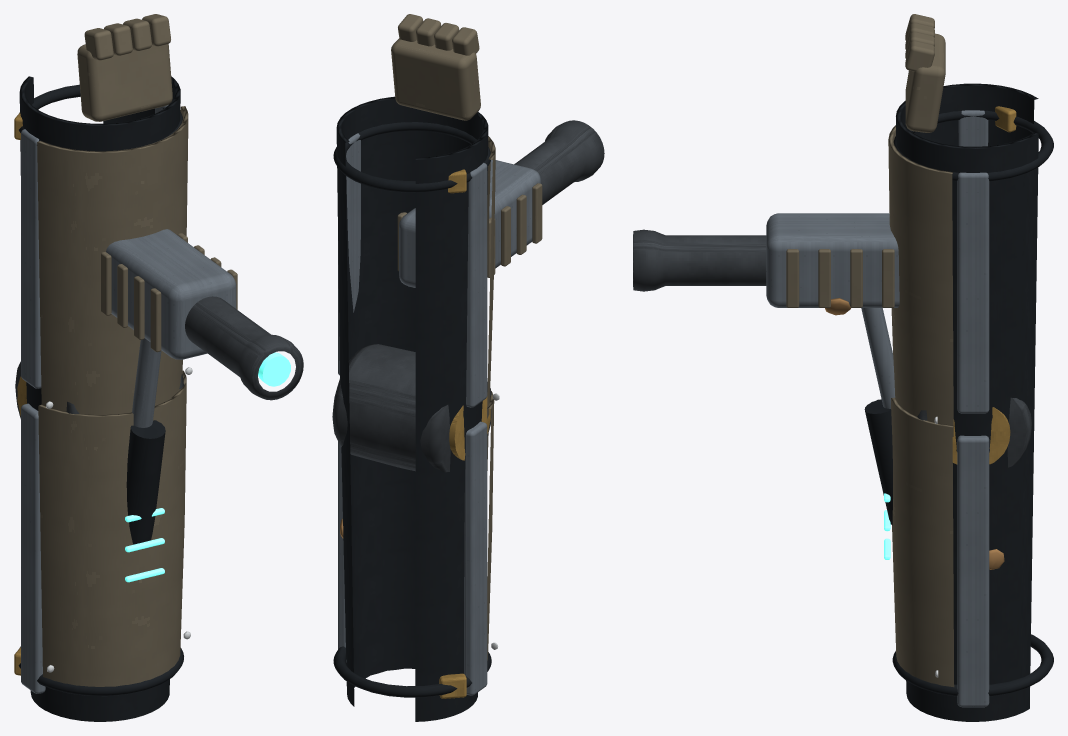
The model's file is exo-arm.lod1.glb.
3 renders of one model, left to right at view 1: azimuth 30°, elevation 25°; view 2: azimuth 150°, elevation 25°; view 3: azimuth 270°, elevation 25°, orthographic. The views are drawn at different scales.
Visible parts, largest first — view 1: ceramic / ceramic composite panel, alloy / machined anodized alloy, polymer / stippled polymer, darksteel / oil-blackened fittings, energy / emissive field channel, brass / polished brass furniture; view 2: polymer / stippled polymer, alloy / machined anodized alloy, darksteel / oil-blackened fittings, ceramic / ceramic composite panel, brass / polished brass furniture; view 3: polymer / stippled polymer, ceramic / ceramic composite panel, alloy / machined anodized alloy, darksteel / oil-blackened fittings, brass / polished brass furniture.
Boxes of the visible parts, x1,y1,x2,y2 form: ceramic / ceramic composite panel: (37, 14, 237, 686); alloy / machined anodized alloy: (21, 105, 236, 693); polymer / stippled polymer: (18, 76, 183, 721); darksteel / oil-blackened fittings: (15, 296, 303, 418); energy / emissive field channel: (125, 352, 290, 582); brass / polished brass furniture: (14, 113, 26, 675); polymer / stippled polymer: (333, 96, 491, 721); alloy / machined anodized alloy: (338, 133, 540, 695); darksteel / oil-blackened fittings: (332, 120, 604, 472); ceramic / ceramic composite panel: (391, 14, 542, 660); brass / polished brass furniture: (439, 169, 490, 698); polymer / stippled polymer: (864, 83, 1053, 721); ceramic / ceramic composite panel: (786, 14, 954, 687); alloy / machined anodized alloy: (766, 110, 989, 707); darksteel / oil-blackened fittings: (633, 229, 1031, 467); brass / polished brass furniture: (952, 106, 1016, 464).
Size of the model in its own units: 0.155 by 0.6897 by 0.3963.
8 materials, 6 textured.
